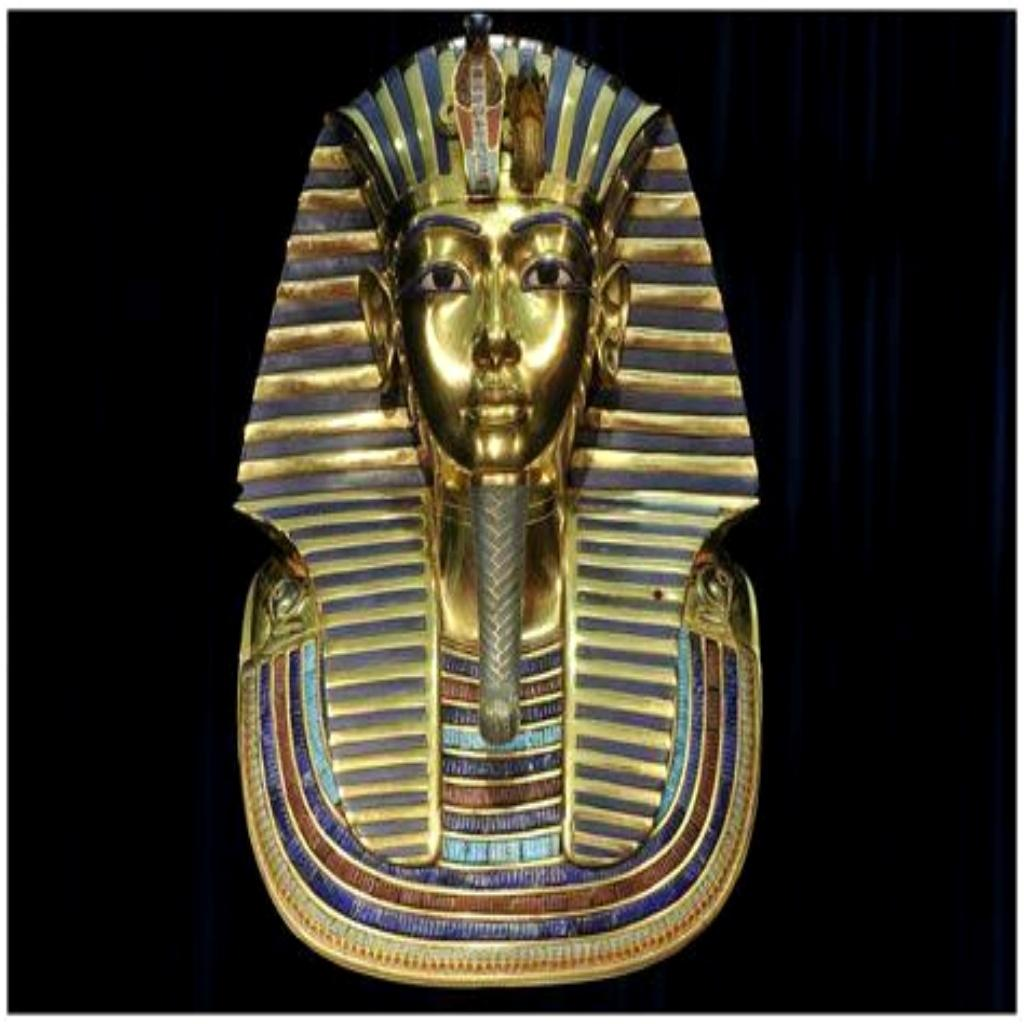Mask of Tutankhamun: (229, 20, 767, 987)
